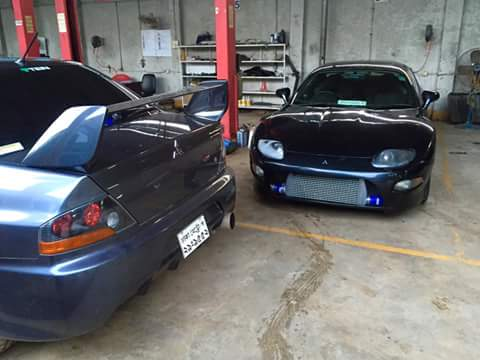registration_plate: (176, 213, 211, 260)
